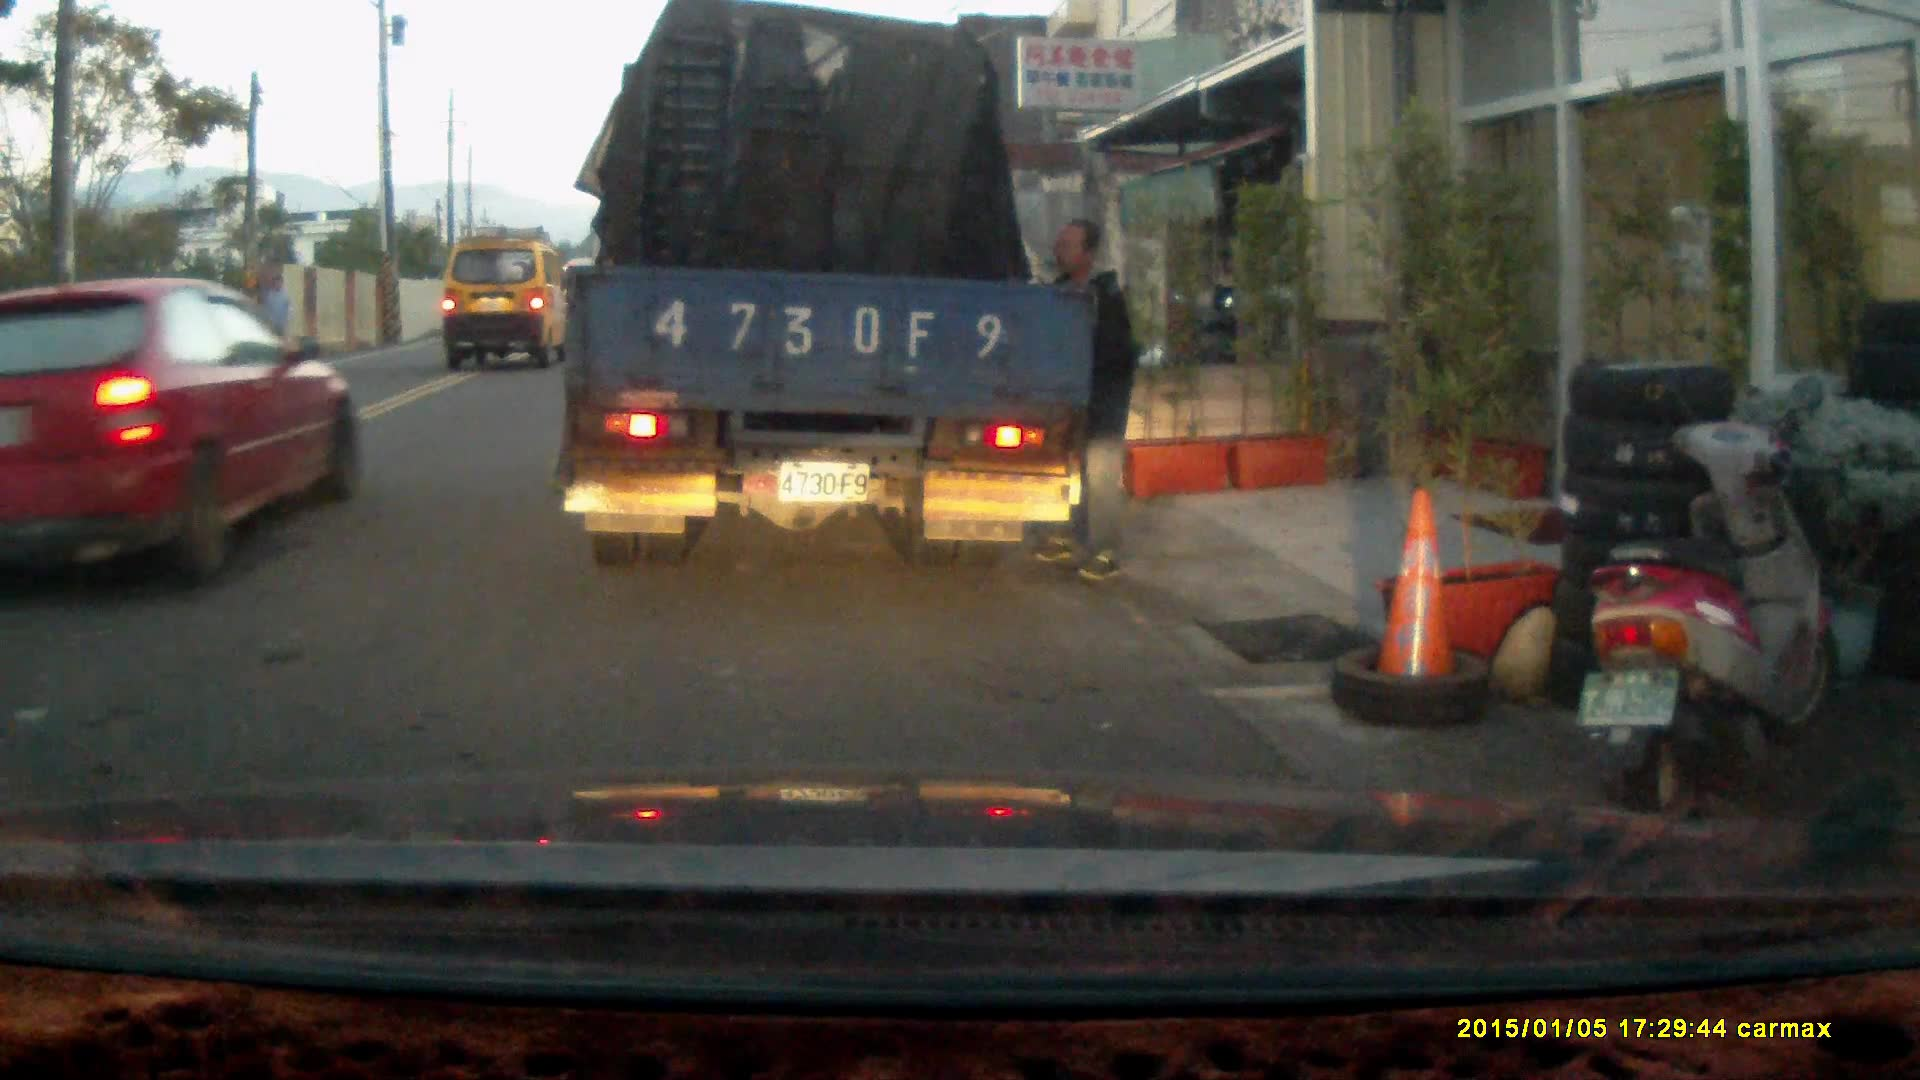pedestrian: (1026, 214, 1137, 582), (253, 274, 293, 368)
vehicle: (565, 23, 1097, 570), (1, 277, 366, 586), (440, 237, 572, 364)
